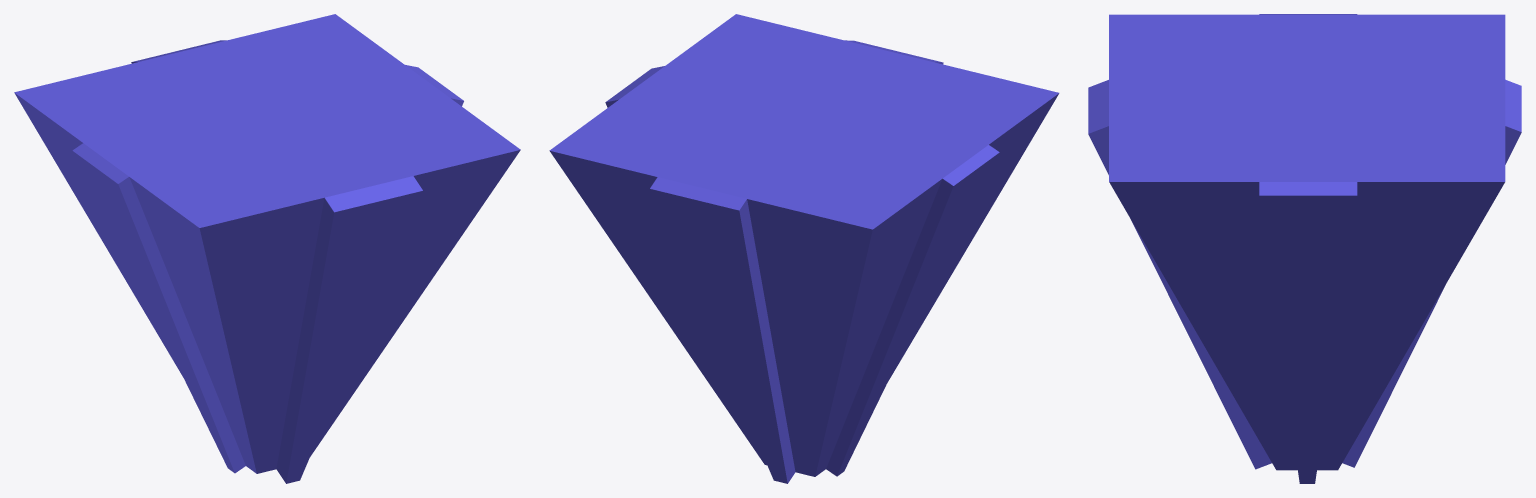
File: untitled.fbx_Collection.fbx
The picture shows the model from 3 angles, left to right: view 1: azimuth 30°, elevation 25°; view 2: azimuth 150°, elevation 25°; view 3: azimuth 270°, elevation 25°; orthographic projection. The views are drawn at different scales.
Visible parts, largest first — view 1: Cube; view 2: Cube; view 3: Cube.
Part boxes in pixels (left/top/right/bottom): Cube: left=14, top=14, right=520, bottom=483; Cube: left=549, top=14, right=1059, bottom=483; Cube: left=1088, top=14, right=1521, bottom=483.
Size of the model in its own units: 215 by 204 by 219.
